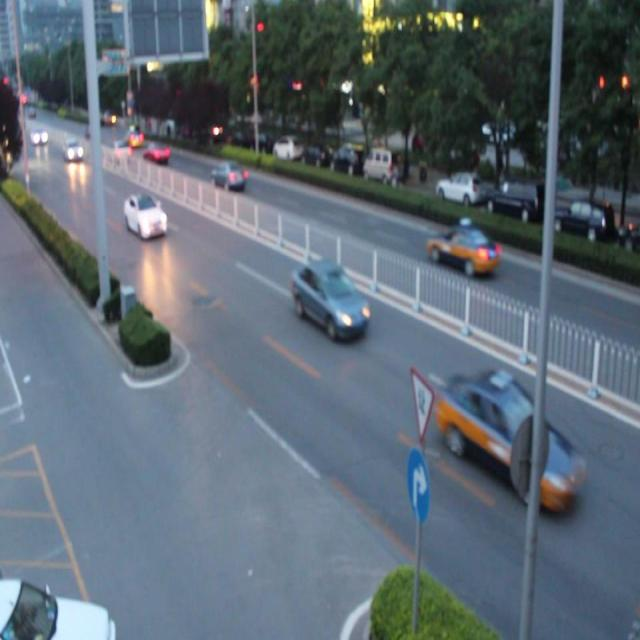car: (436, 366, 578, 511), (0, 573, 114, 640), (292, 262, 366, 340), (428, 228, 499, 274), (123, 192, 167, 236), (212, 158, 245, 190), (145, 142, 168, 163)
